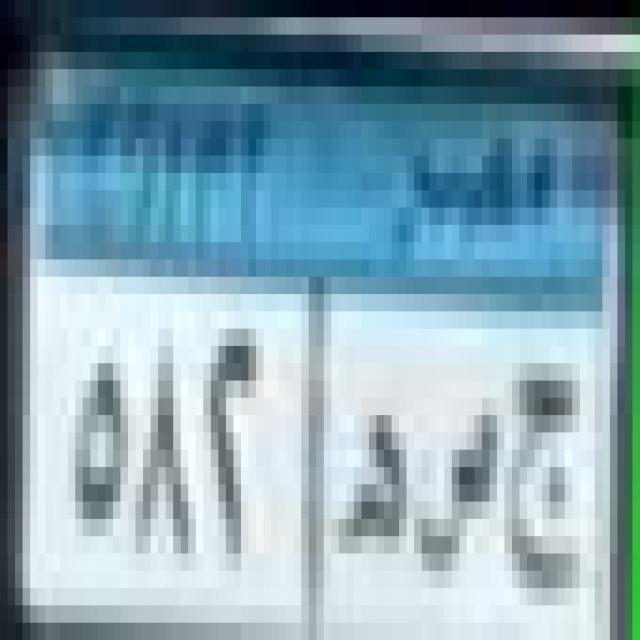2: (200, 312, 266, 578)
5: (68, 333, 128, 545)
8: (132, 320, 197, 578)
Heeh: (334, 374, 412, 572)
Saad: (417, 381, 505, 596)
geem: (505, 346, 590, 610)
